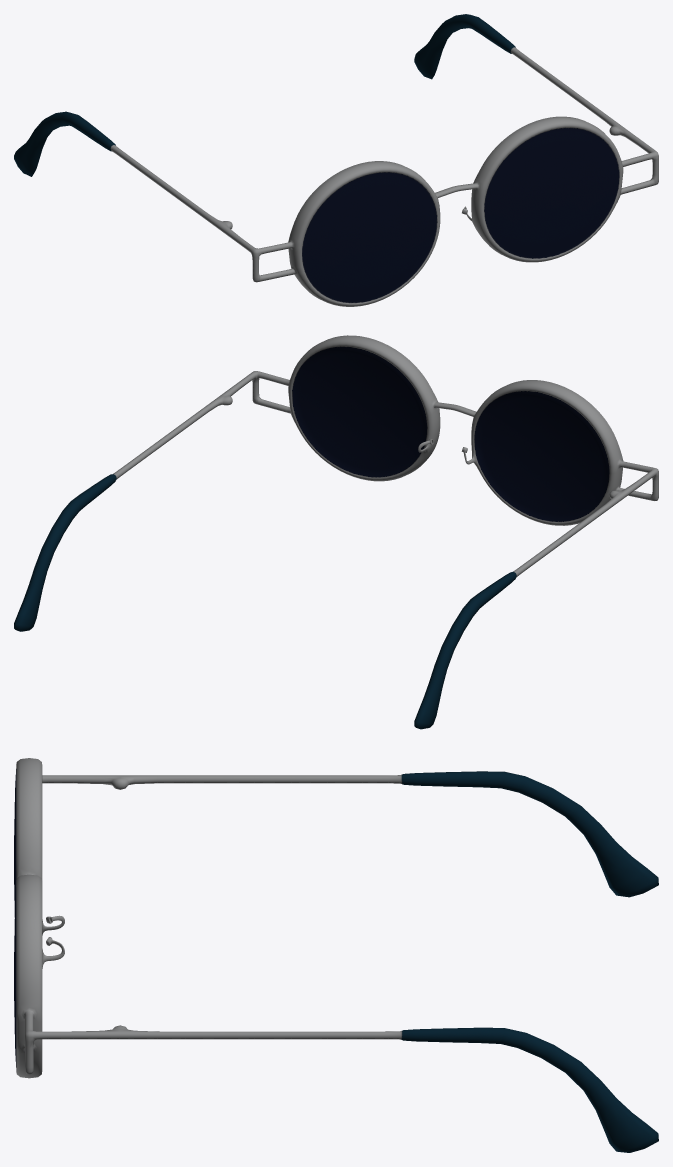
The model's file is sunglasses_c601af58.glb.
The picture shows the model from 3 angles, top to bottom: view 1: azimuth 30°, elevation 25°; view 2: azimuth 150°, elevation 25°; view 3: azimuth 270°, elevation 25°; orthographic projection. The views are drawn at different scales.
Parts seen in each view (by area): view 1: Slim shades; view 2: Slim shades; view 3: Slim shades.
Boxes of the visible parts, <box> form: Slim shades: <box>14,14,658,306</box>; Slim shades: <box>14,335,658,729</box>; Slim shades: <box>14,758,658,1152</box>.
Bounding box in the file's own units: 518 × 181 × 537.
1 material, 1 textured.
